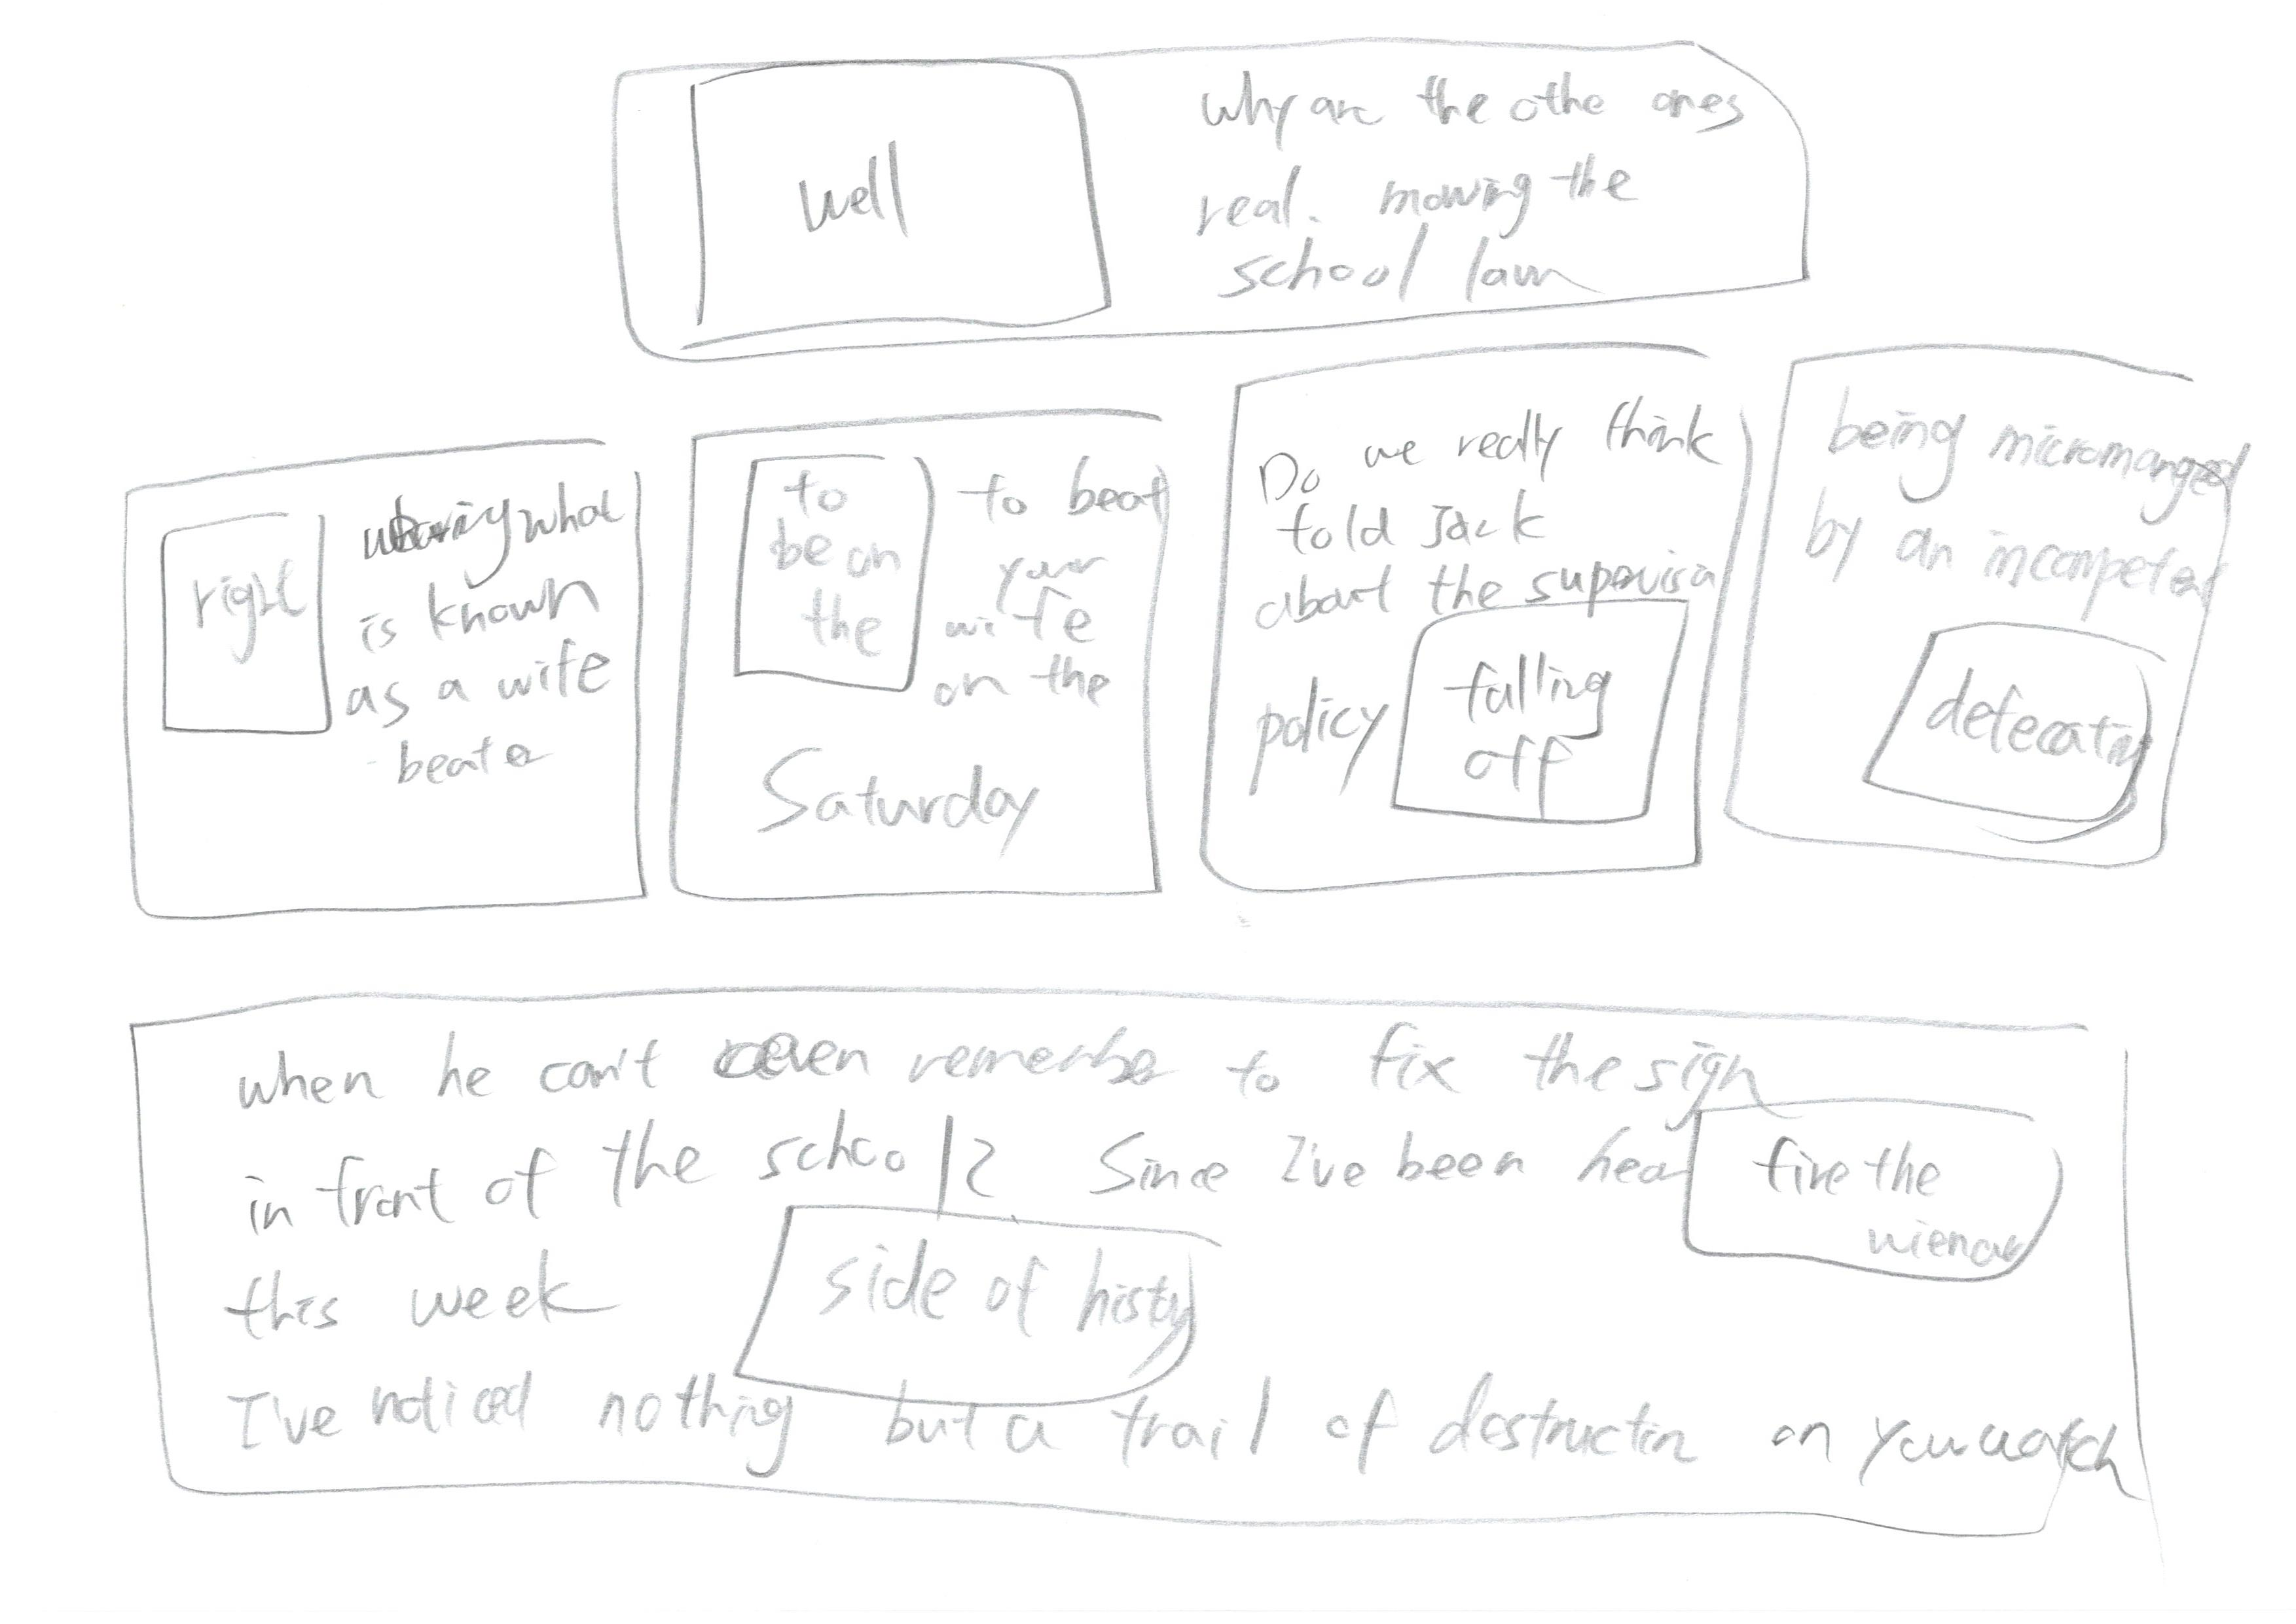btn-active: (647, 49, 1123, 364), (689, 1185, 1257, 1431), (1663, 1074, 2115, 1327), (1362, 592, 1742, 858), (1846, 610, 2191, 854), (698, 434, 956, 715), (139, 487, 359, 791)
quadruple: (1192, 332, 1783, 917), (1705, 329, 2296, 914), (62, 390, 684, 942), (645, 385, 1211, 942)
row: (9, 323, 2289, 963), (32, 949, 2296, 1585), (26, 7, 2296, 330)
single: (54, 968, 2245, 1552)
text: (197, 1039, 665, 1446), (694, 1009, 1675, 1186), (684, 1390, 2097, 1506), (1180, 62, 1746, 286), (1250, 394, 1711, 613), (1800, 388, 2215, 613), (353, 475, 614, 793), (719, 724, 1083, 859), (960, 450, 1127, 724), (1231, 634, 1378, 831)
